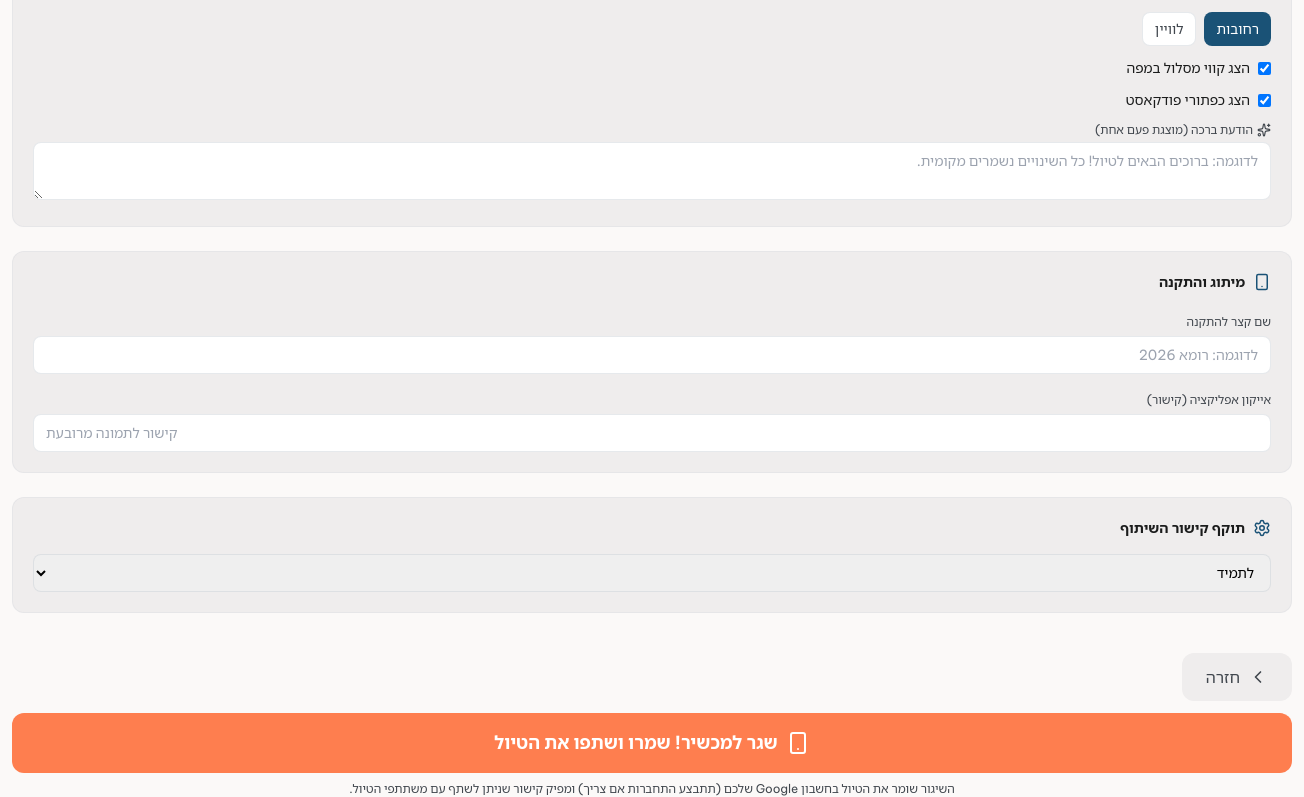
BuilderStep4 › renders design controls and deploys a new trip
The image size is (1304, 797).
(page scrolled)
Click the button "שגר למכשיר! שמרו ושתפו את הטיול": [652, 743] box x1=12 y1=713 x2=1292 y2=773
(page scrolled)
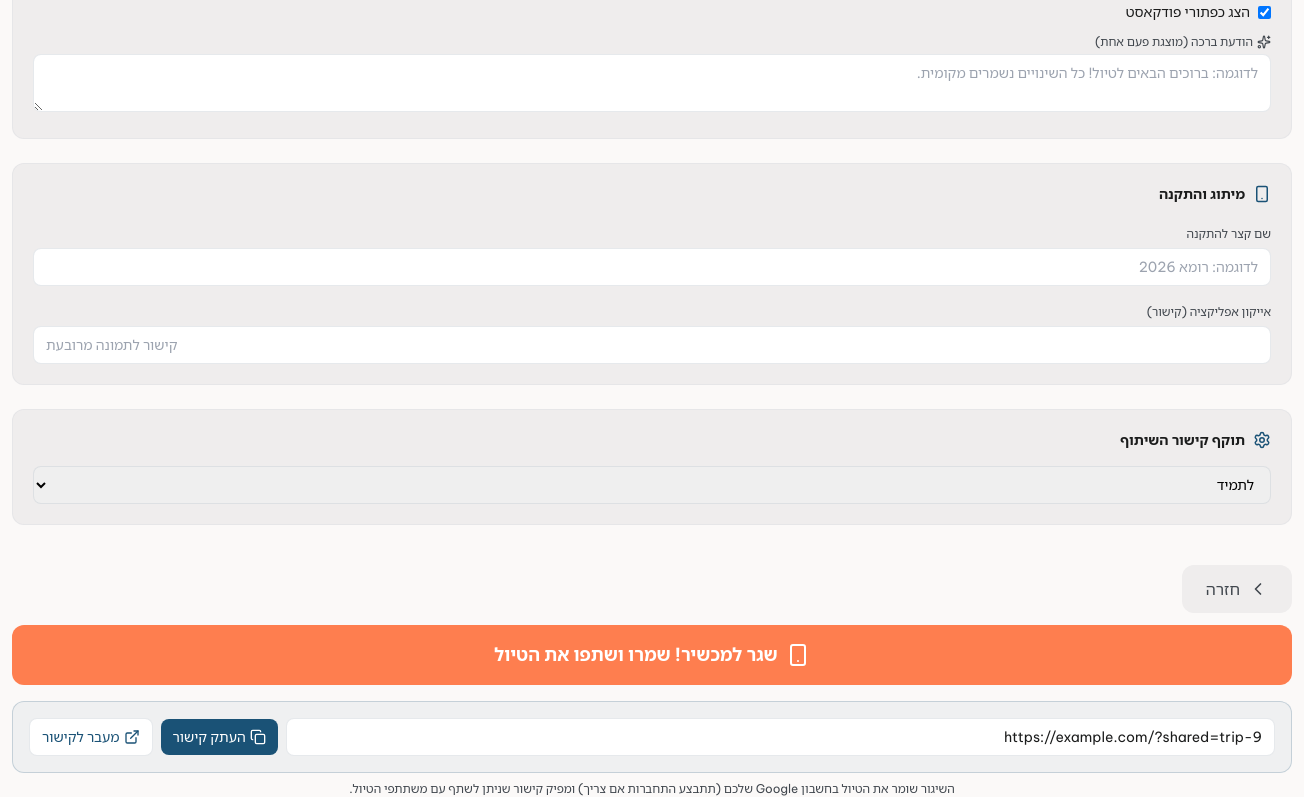
Check: the field showing "https://example.com/?shared=trip-9" is shown, box x1=286 y1=718 x2=1275 y2=756
